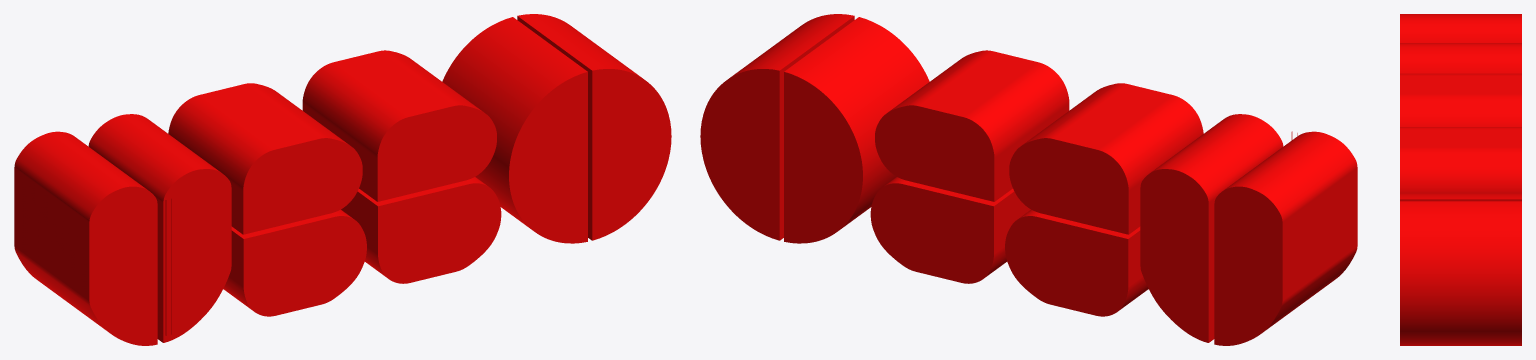
File: ubbo.glb
3 views of the same model, side by side, from view 1: azimuth 30°, elevation 25°; view 2: azimuth 150°, elevation 25°; view 3: azimuth 270°, elevation 25° (orthographic). The views are drawn at different scales.
Size of the model in its own units: 19.66 by 5.49 by 4.89.
